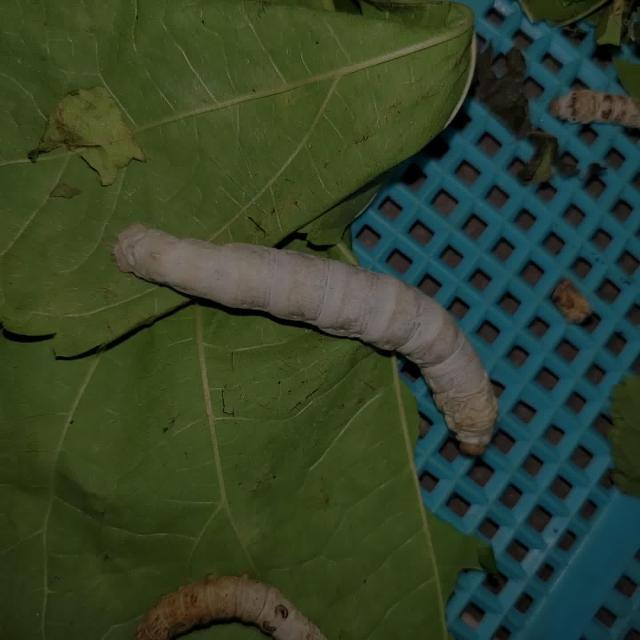Grasserie: (89, 174, 554, 478)
